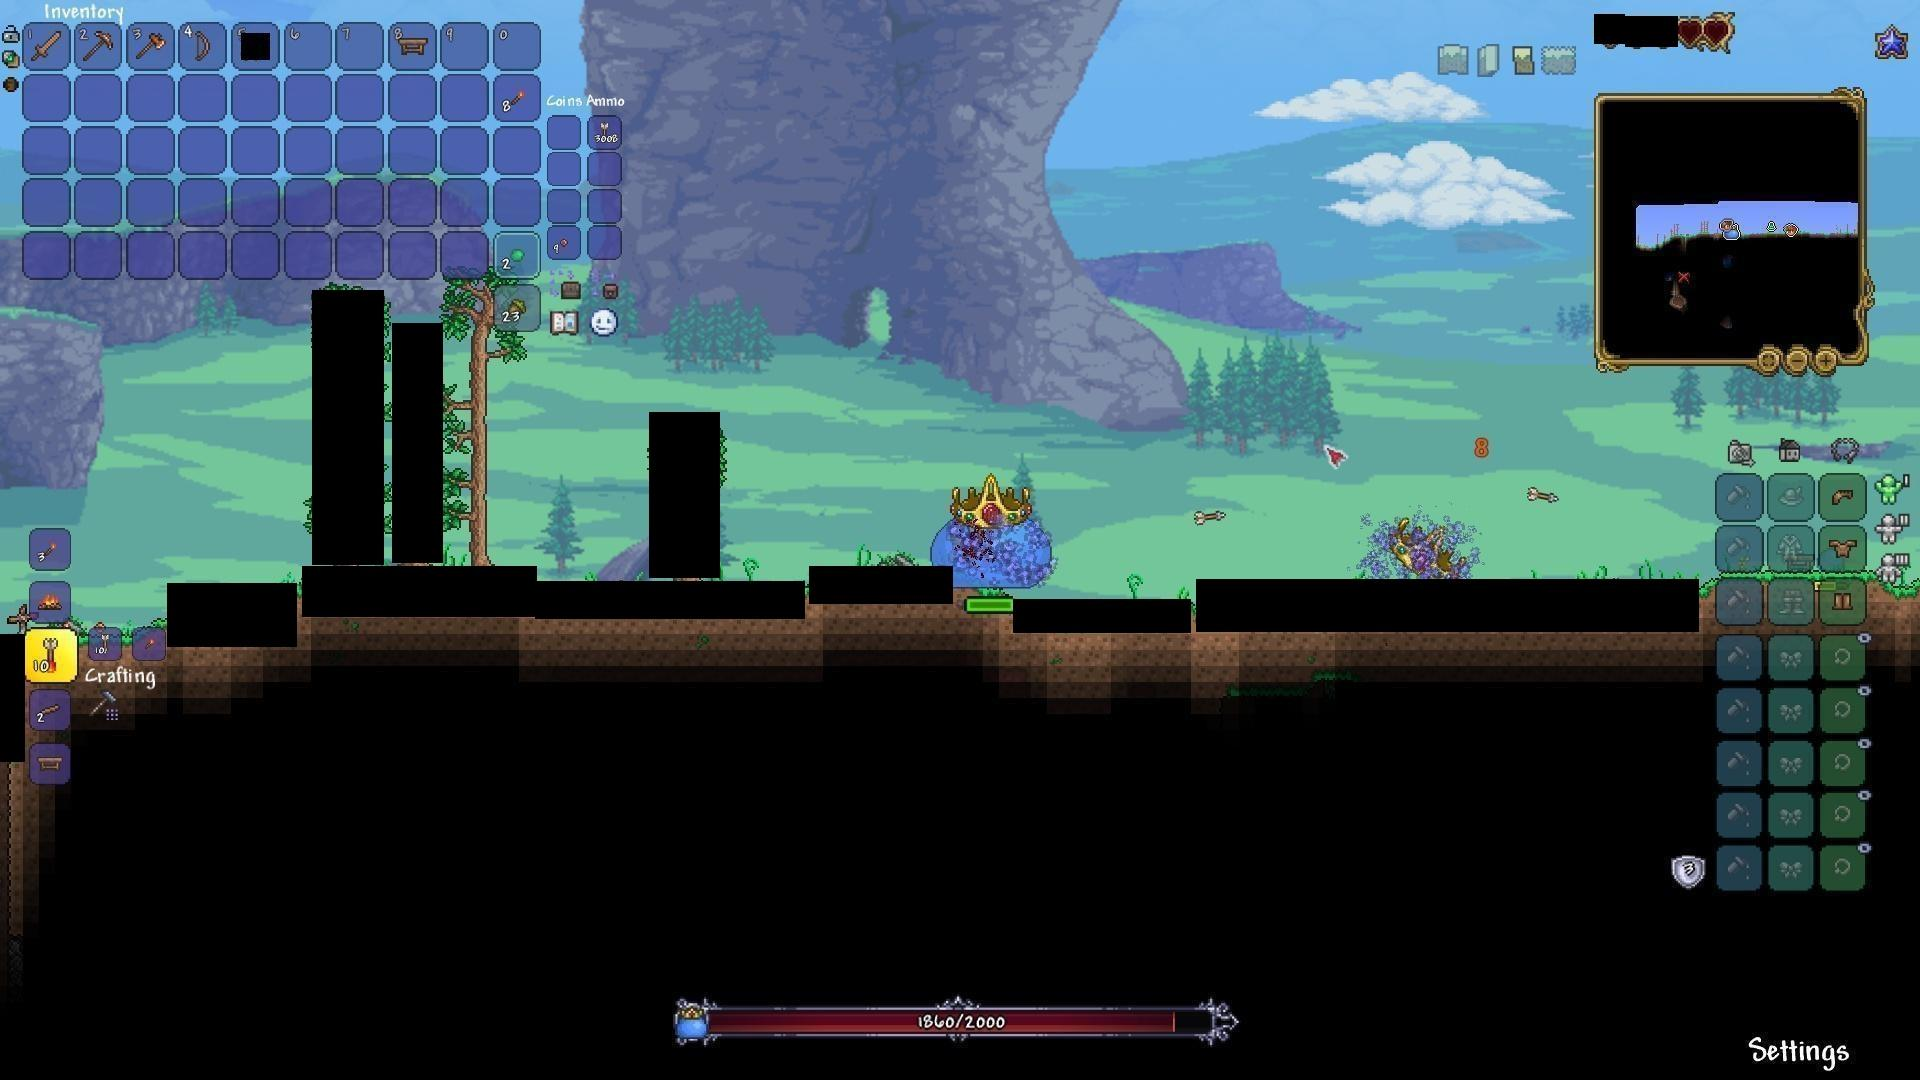breastplate: (1829, 537, 1859, 559)
helmet: (1828, 483, 1858, 510)
legs: (1832, 588, 1855, 616)
tree: (448, 277, 516, 563)
workbench: (394, 36, 431, 61), (36, 752, 66, 775)
